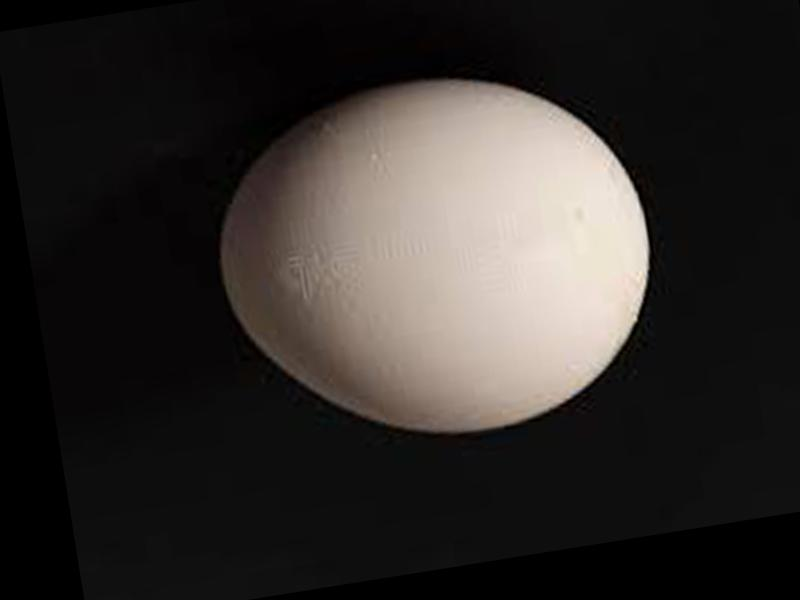Eggs: (199, 51, 677, 465)
